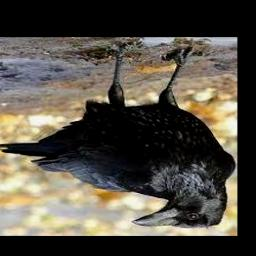Crow: (0, 42, 235, 229)
